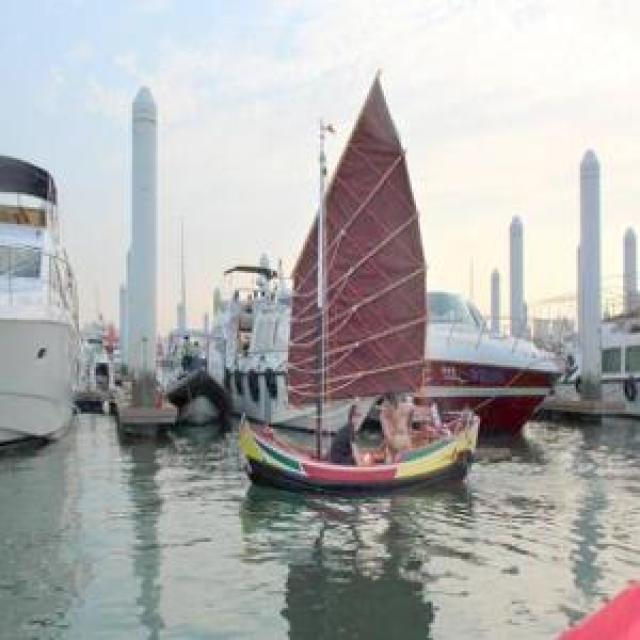sailboat: (230, 61, 479, 495)
